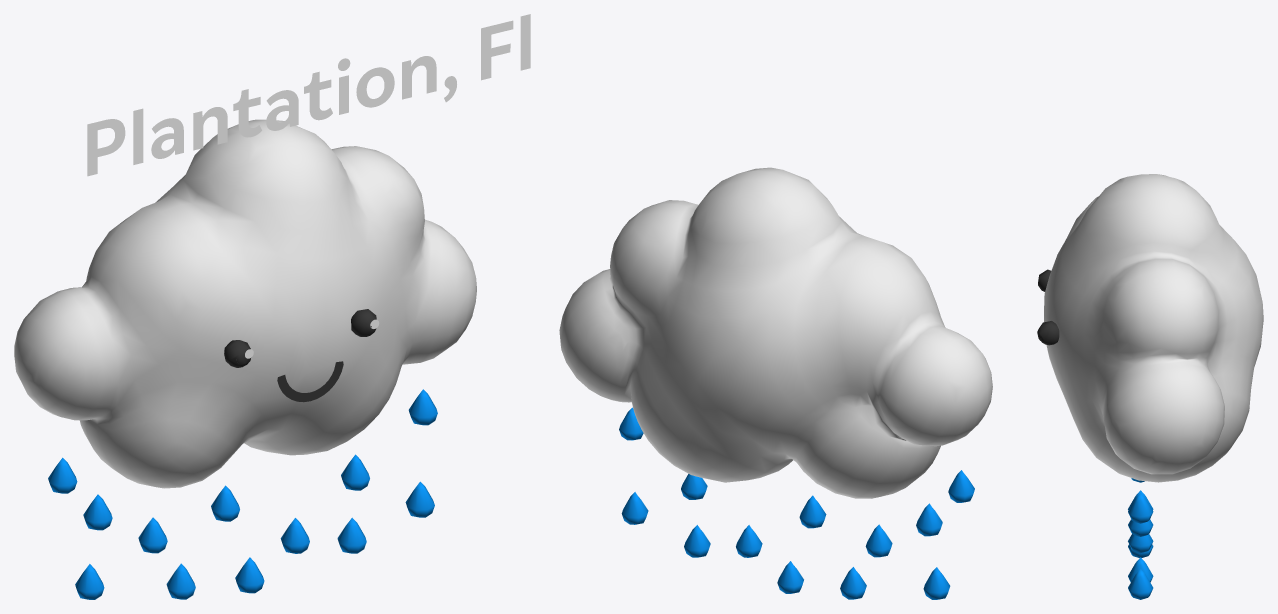
The model's file is rainy_plantation.glb.
3 renders of one model, left to right at view 1: azimuth 30°, elevation 25°; view 2: azimuth 150°, elevation 25°; view 3: azimuth 270°, elevation 25°, orthographic. The views are drawn at different scales.
Visible parts, largest first — view 1: PM3D_Sphere3D4, _Fl, PM3D_Sphere3D1_1, PM3D_Sphere3D5; view 2: PM3D_Sphere3D4, PM3D_Sphere3D1_1; view 3: PM3D_Sphere3D4, PM3D_Sphere3D1_1, PM3D_Sphere3D5.
Boxes of the visible parts, <box> form: PM3D_Sphere3D4: <box>14,119,476,488</box>; _Fl: <box>87,14,530,176</box>; PM3D_Sphere3D1_1: <box>48,389,437,599</box>; PM3D_Sphere3D5: <box>224,309,379,402</box>; PM3D_Sphere3D4: <box>559,167,992,498</box>; PM3D_Sphere3D1_1: <box>619,407,974,599</box>; PM3D_Sphere3D4: <box>1044,174,1263,482</box>; PM3D_Sphere3D1_1: <box>1128,478,1153,599</box>; PM3D_Sphere3D5: <box>1037,269,1059,345</box>.
Bounding box in the file's own units: 7.02 × 7.97 × 3.52.
4 materials, 4 textured.
